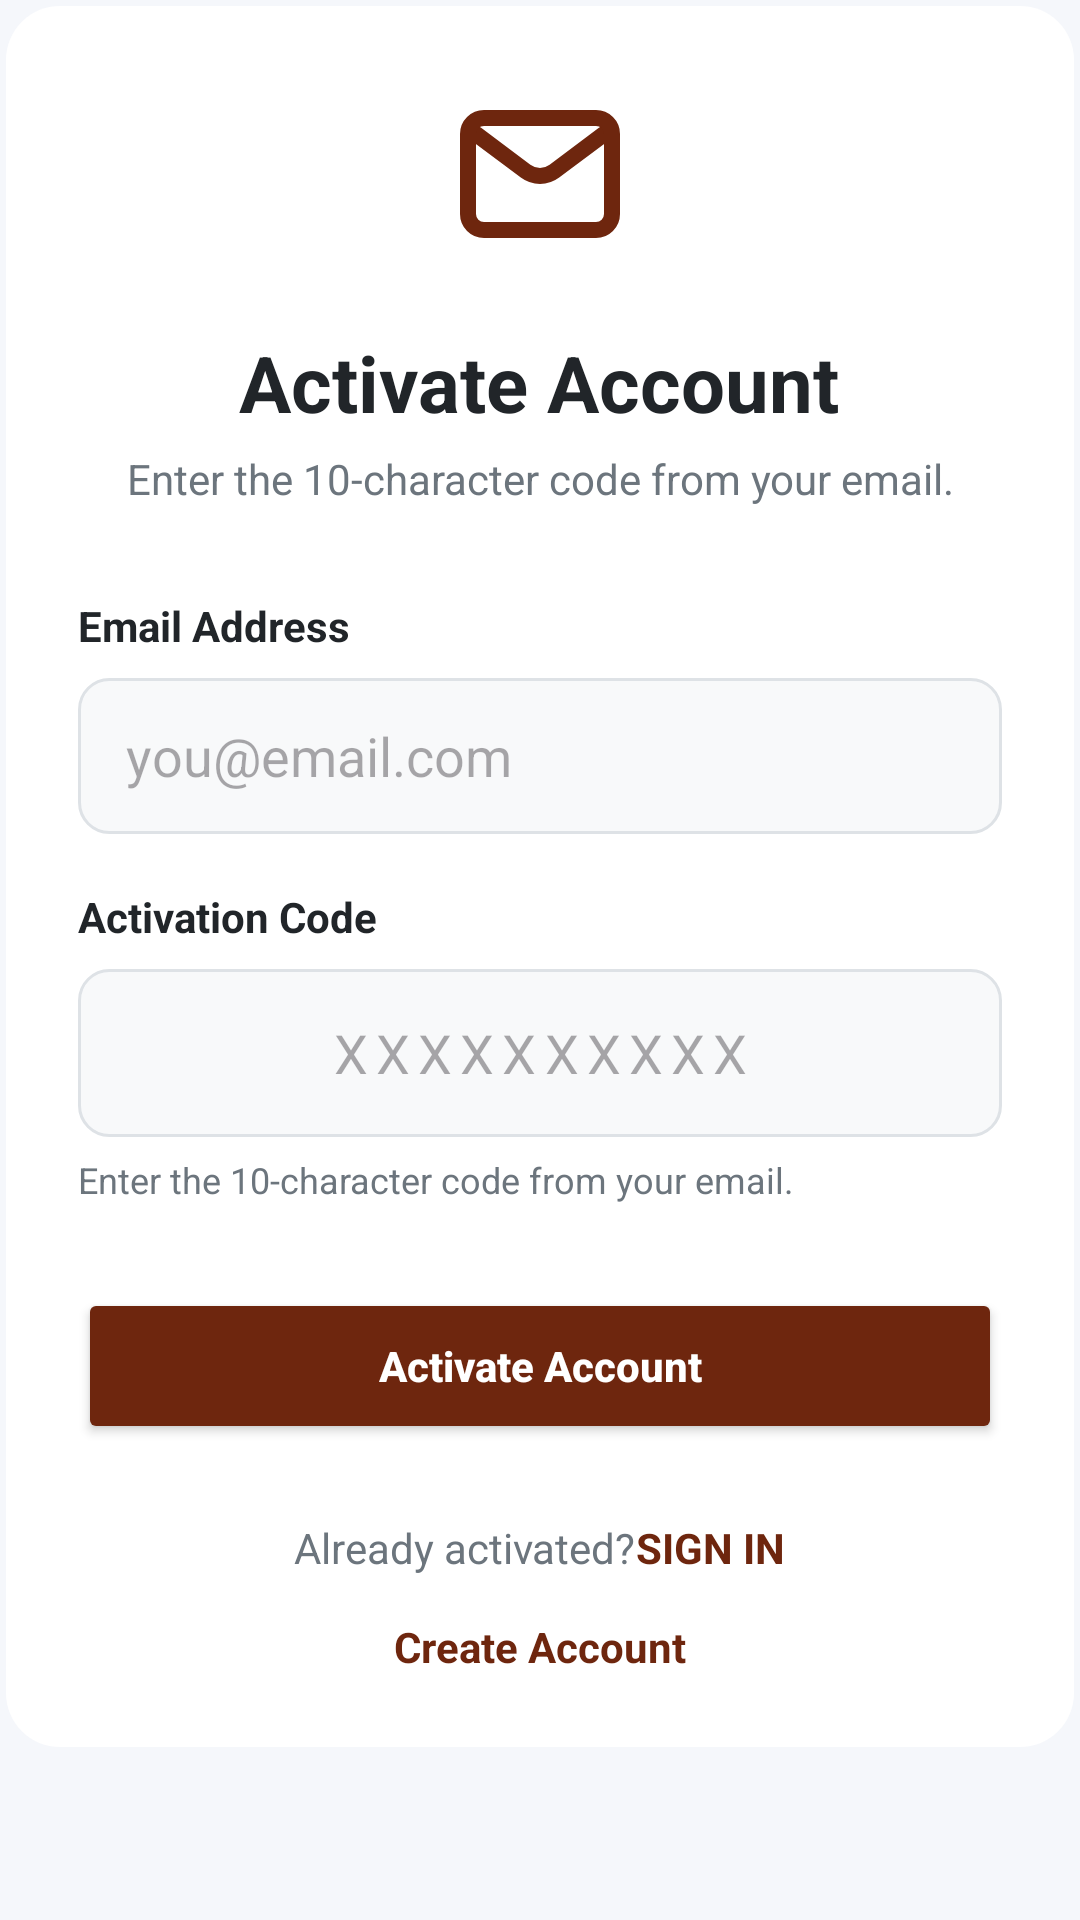

Named icons in this screenshot (1080x1920) and their bounding boxes, (x1, y1, x2, y2):
email: (460, 110, 620, 238)
